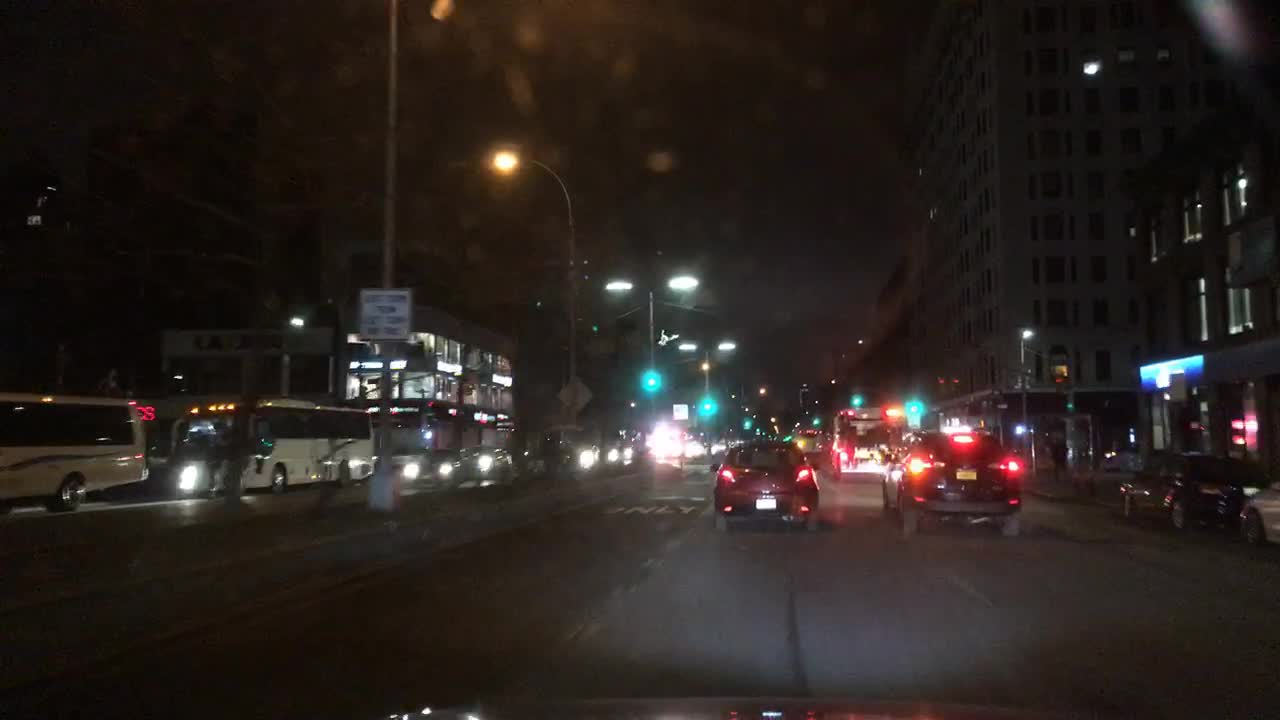bus: (167, 401, 373, 492), (0, 389, 146, 515)
car: (883, 432, 1023, 540), (1119, 446, 1268, 535), (713, 443, 820, 530), (525, 417, 603, 480), (1235, 478, 1279, 551), (403, 449, 463, 491), (454, 446, 511, 488), (597, 434, 633, 474), (791, 425, 826, 453), (651, 428, 682, 459), (707, 440, 731, 464), (682, 437, 706, 458)
person: (541, 431, 568, 488), (1048, 434, 1070, 483)
traffic light: (905, 401, 919, 422), (698, 398, 715, 414), (1065, 392, 1074, 413), (423, 428, 433, 443), (1011, 425, 1026, 435), (648, 374, 654, 387)
traffic sign: (360, 290, 409, 341), (559, 374, 589, 408), (673, 404, 689, 419)
truck: (831, 406, 904, 483)
